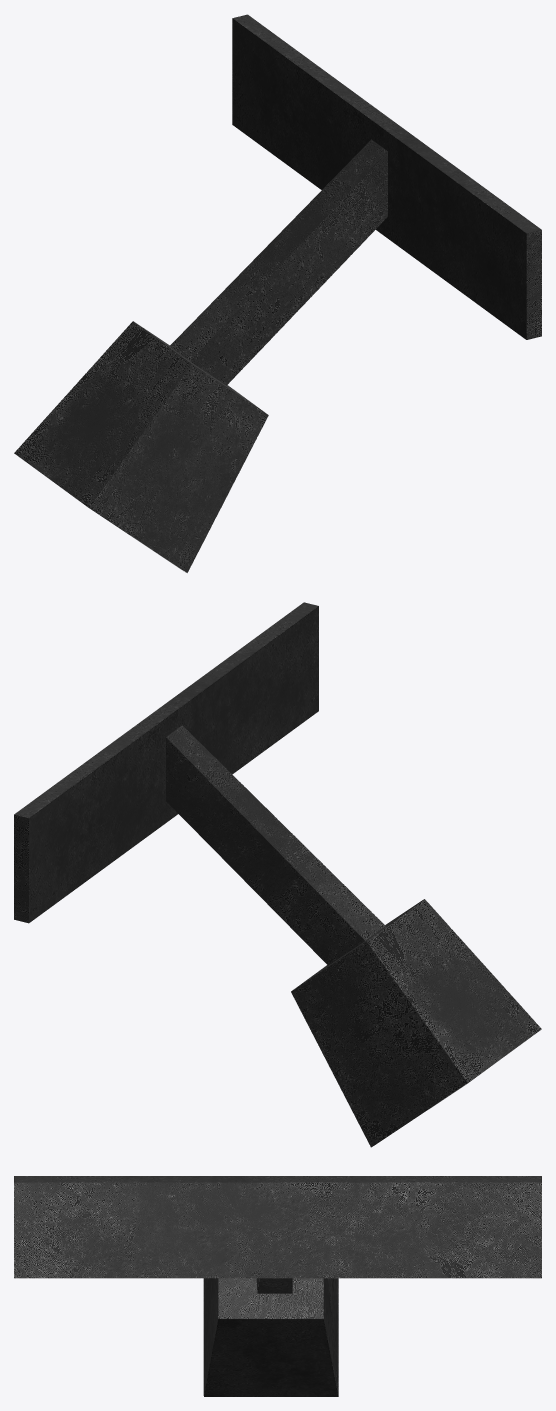
File: Spot_Lights.fbx
3 views of the same model, one above another, from view 1: azimuth 30°, elevation 25°; view 2: azimuth 150°, elevation 25°; view 3: azimuth 270°, elevation 25° (orthographic). The views are drawn at different scales.
Visible parts, largest first — view 1: New_Spot_Light; view 2: New_Spot_Light; view 3: New_Spot_Light.
Boxes of the visible parts, box(x1,y1,x2,y2) form: New_Spot_Light: box(14, 14, 541, 572); New_Spot_Light: box(14, 602, 541, 1147); New_Spot_Light: box(14, 1176, 541, 1396).
Size of the model in its own units: 681 by 676 by 1000.
1 material, 1 textured.
